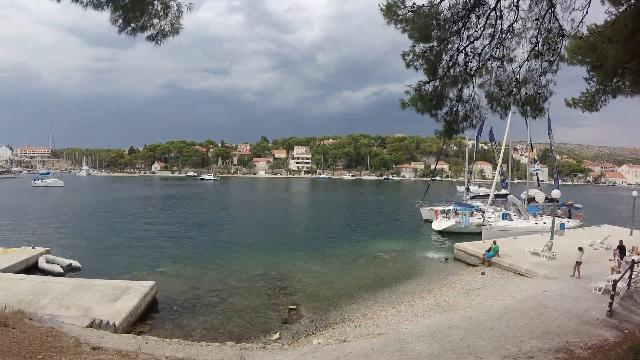Freighter: (1, 162, 30, 182)
Sailboat: (30, 174, 70, 190)
speedboat: (194, 171, 223, 183), (182, 168, 200, 178)
